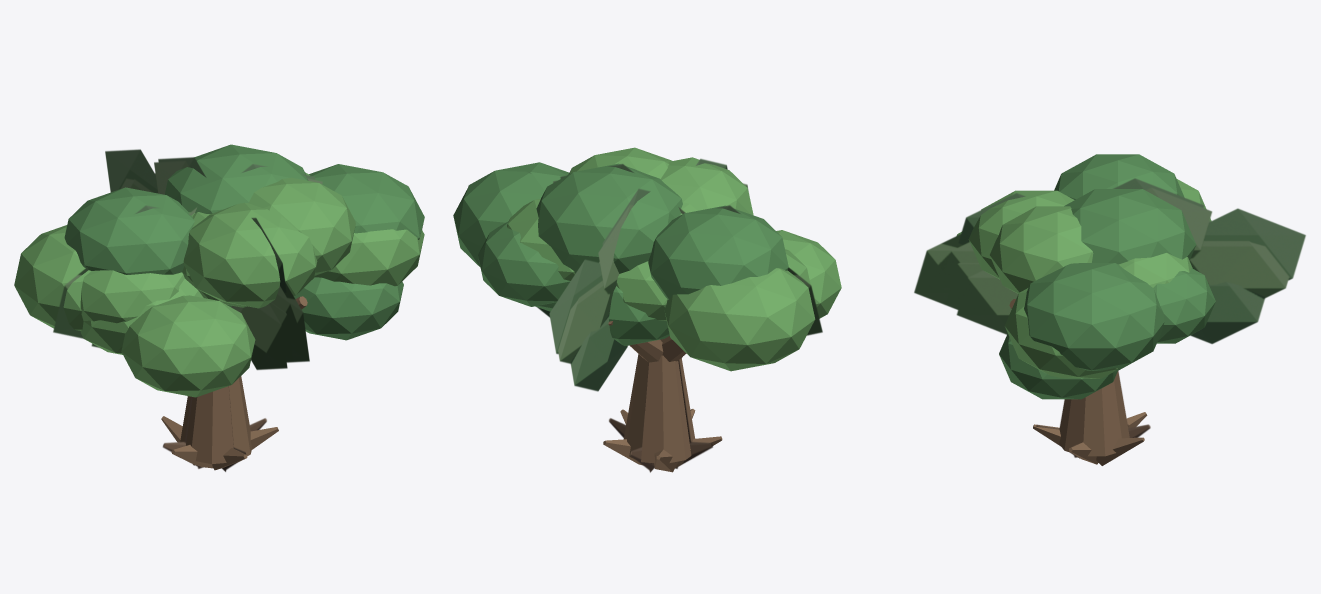
Rendered from oak_lod.glb.
3 renders of one model, left to right at view 1: azimuth 30°, elevation 25°; view 2: azimuth 150°, elevation 25°; view 3: azimuth 270°, elevation 25°, orthographic. The views are drawn at different scales.
Visible parts, largest first — view 1: oak_lod_LOD0, oak_lod_Impostor; view 2: oak_lod_LOD0, oak_lod_Impostor; view 3: oak_lod_LOD0, oak_lod_Impostor.
Part boxes in pixels (x1,y1,x2,y2): oak_lod_LOD0: (14,144,424,470); oak_lod_Impostor: (53,149,407,471); oak_lod_LOD0: (453,147,841,472); oak_lod_Impostor: (468,158,822,472); oak_lod_LOD0: (956,154,1215,465); oak_lod_Impostor: (914,178,1305,457).
Size of what is drawn, in the model's own units: 28.22 by 28 by 28.
4 materials, 1 textured.
